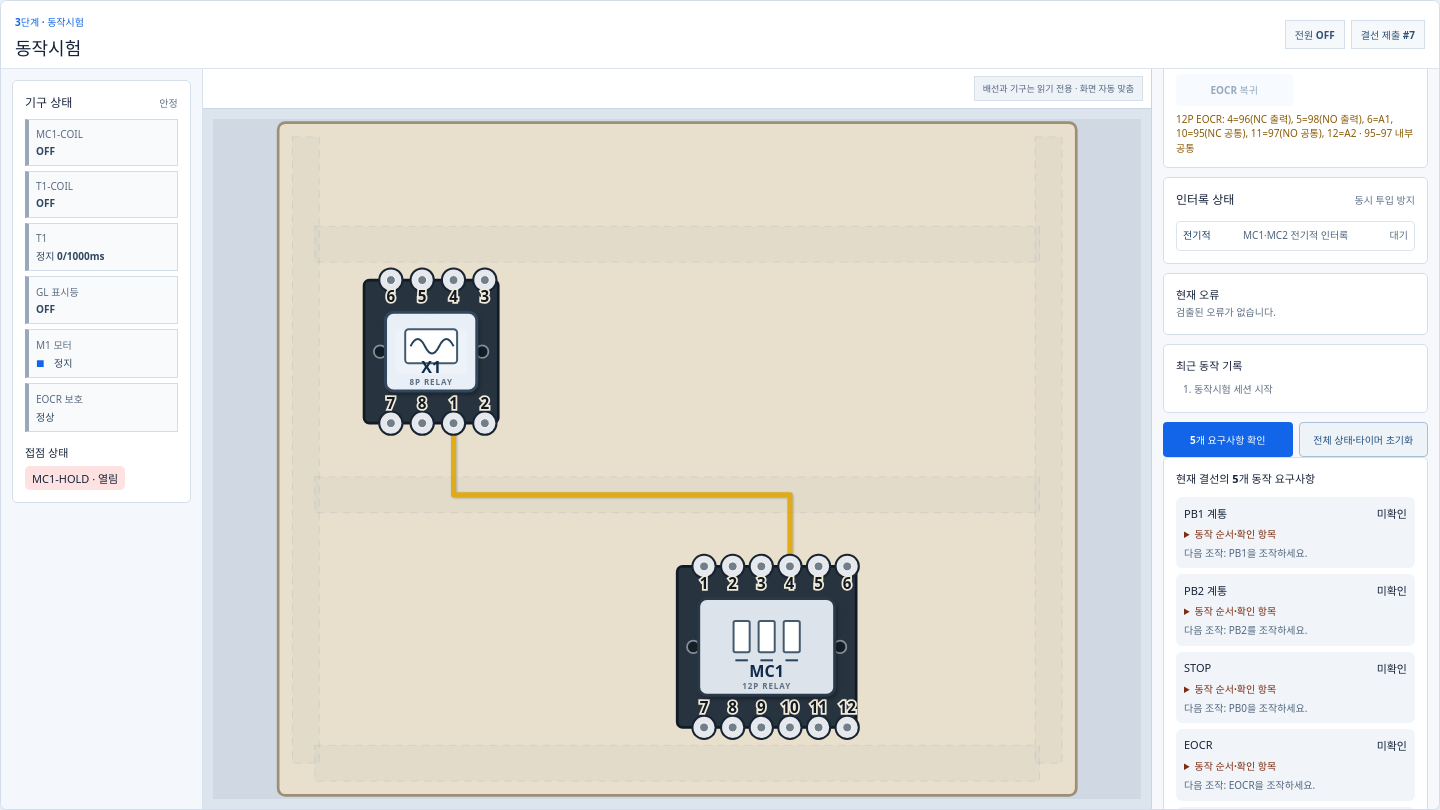
it: 동작시험 › reports public behavior satisfaction without a score in practice mode
(page scrolled)
Step 1. Click the button "5개 요구사항 확인" → (1228, 439), box [1163,422,1292,457]
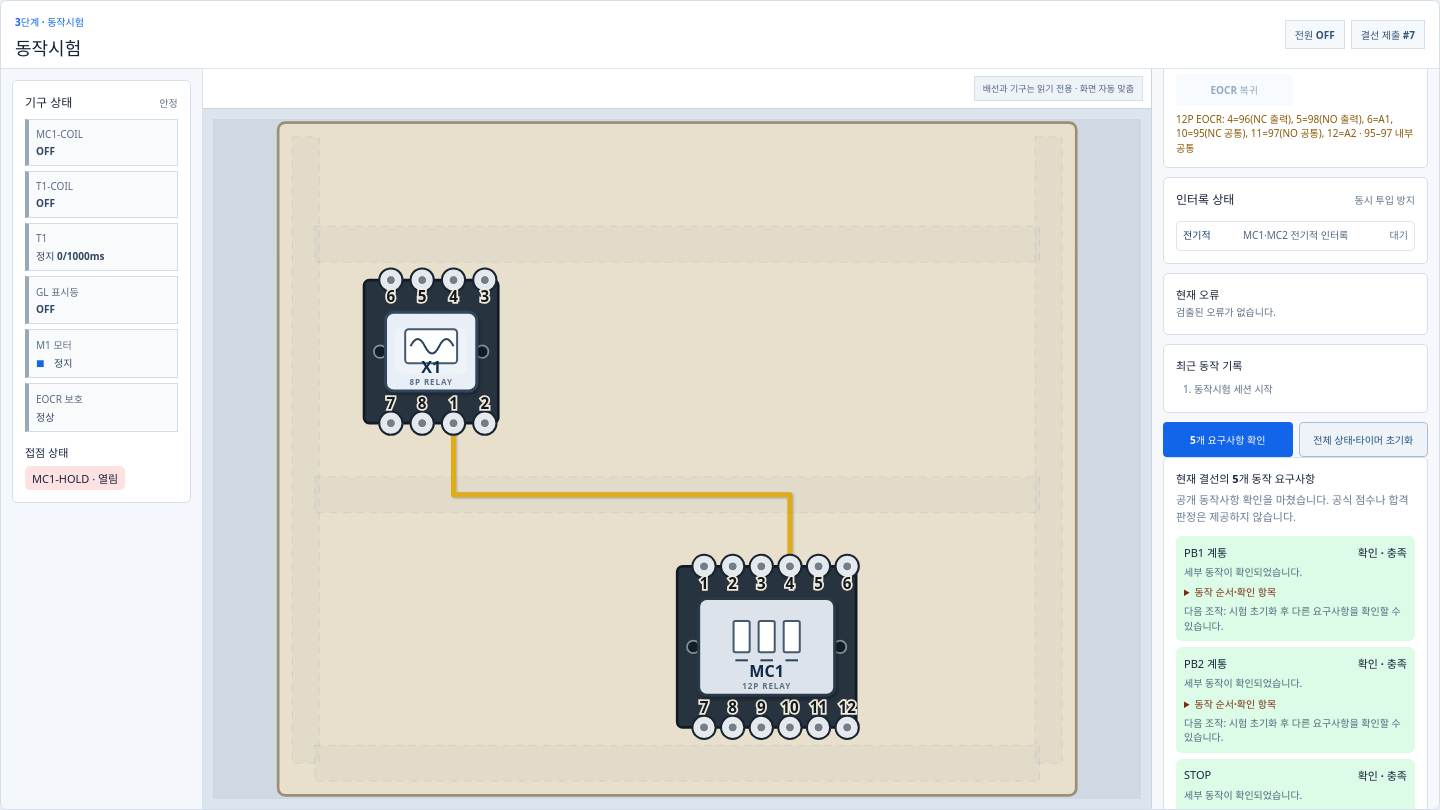
Expected: the text "확인 · 충족" is shown 5 times
Expected: the text "다음 조작: 시험 초기화 후 다른 요구사항을 확인할 수 있습니다." is shown 5 times
